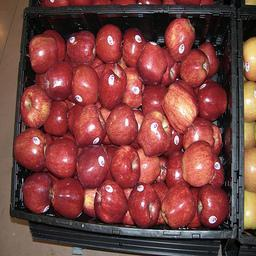apple: (161, 83, 199, 133), (67, 103, 105, 147), (182, 138, 216, 187), (160, 182, 196, 228), (137, 111, 172, 157), (14, 127, 48, 169), (104, 103, 138, 145), (127, 183, 160, 226), (95, 180, 127, 224), (136, 40, 168, 84), (19, 85, 51, 128), (50, 176, 85, 215), (109, 145, 139, 189), (197, 186, 228, 228), (165, 17, 195, 60), (45, 136, 76, 177), (77, 146, 108, 187), (197, 82, 228, 121), (98, 64, 126, 107), (21, 172, 51, 211), (28, 34, 58, 72), (178, 48, 207, 86), (43, 62, 73, 98), (73, 65, 99, 103), (95, 24, 121, 61), (66, 30, 96, 61), (120, 66, 142, 108), (42, 101, 68, 136), (121, 29, 145, 63)
